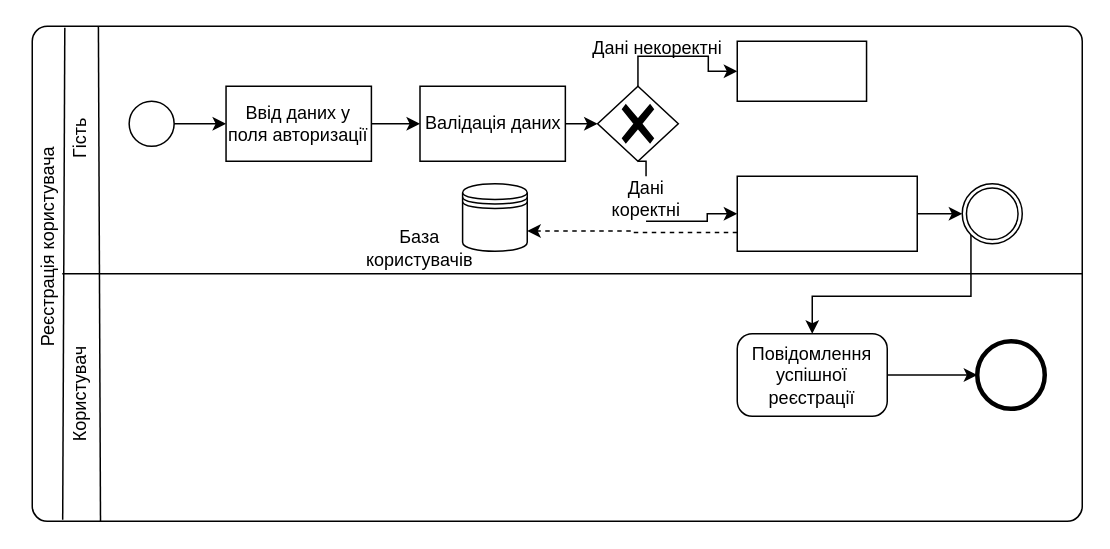
Some shapes in this 1110 by 549 pixel diagram are drawn without their labels. Each missing label, with the centre of its shape:
"Дані додаються в базу, створюється аккаунт" belongs at [826,213].
"Помилка реєстрація" belongs at [801,70].
